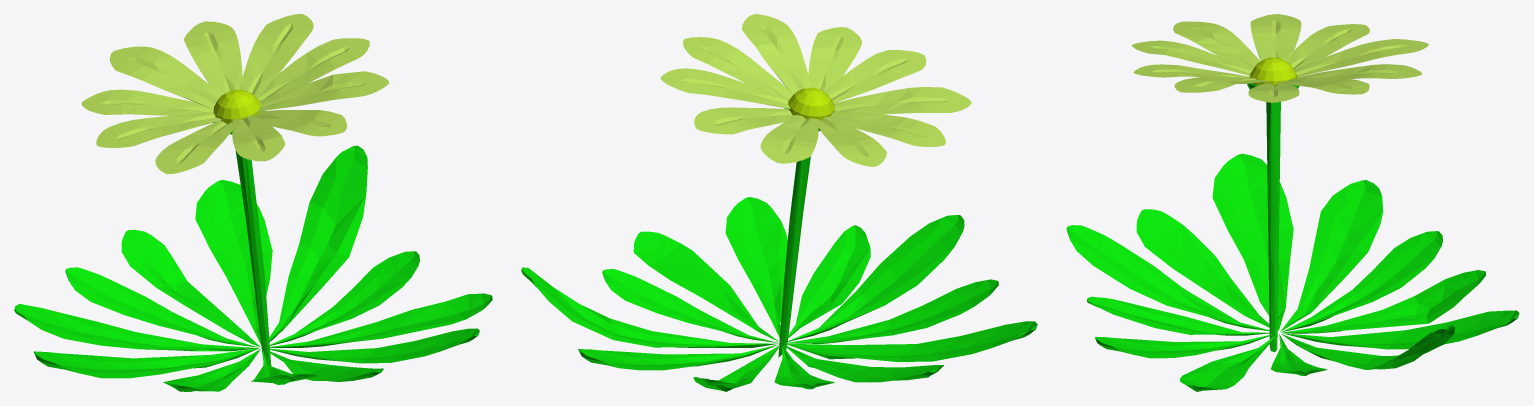
Rendered from Daisy_LP_1.fbx.
The picture shows the model from 3 angles, left to right: view 1: azimuth 30°, elevation 25°; view 2: azimuth 150°, elevation 25°; view 3: azimuth 270°, elevation 25°; orthographic projection. The views are drawn at different scales.
Visible parts, largest first — view 1: Daisy_LP_1; view 2: Daisy_LP_1; view 3: Daisy_LP_1.
Part boxes in pixels (left/top/right/bottom): Daisy_LP_1: left=14, top=14, right=492, bottom=391; Daisy_LP_1: left=521, top=14, right=1037, bottom=391; Daisy_LP_1: left=1066, top=14, right=1519, bottom=391.
Bounding box in the file's own units: 325 × 218 × 302.
